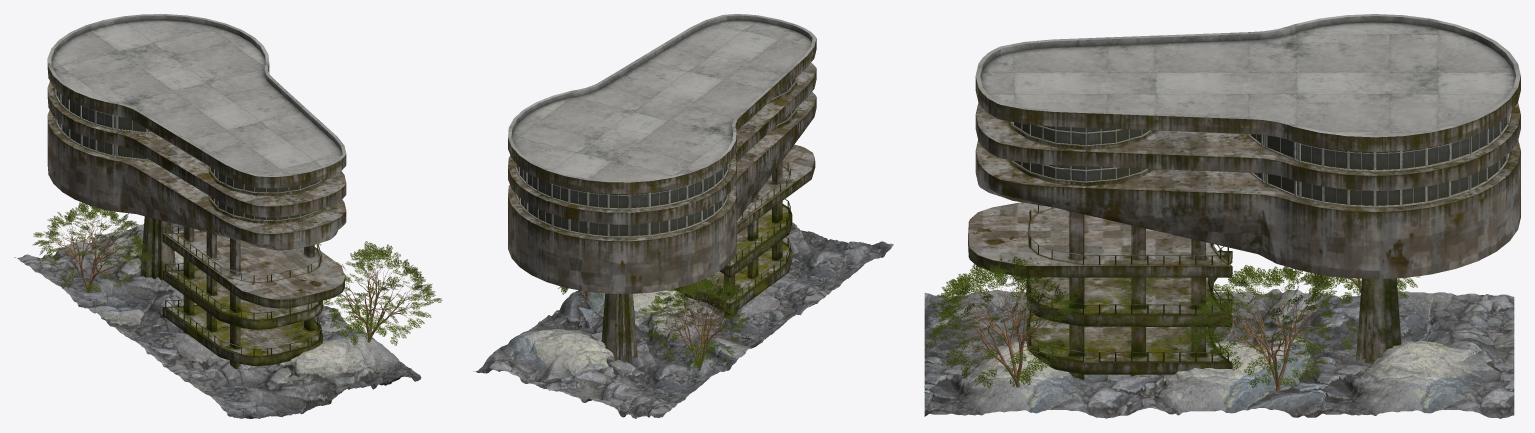
The picture shows the model from 3 angles, left to right: view 1: azimuth 30°, elevation 25°; view 2: azimuth 150°, elevation 25°; view 3: azimuth 270°, elevation 25°; orthographic projection. The views are drawn at different scales.
Parts seen in each view (by area): view 1: Cylinder, Plane, leaves.002, leaves; view 2: Cylinder, Plane, leaves; view 3: Cylinder, Plane, leaves.001, leaves.002, leaves.
Part boxes in pixels (x1=…): Cylinder: x1=47, y1=14, x2=346, y2=368; Plane: x1=14, y1=223, x2=421, y2=418; leaves.002: x1=322, y1=241, x2=442, y2=345; leaves: x1=33, y1=202, x2=153, y2=292; Cylinder: x1=508, y1=14, x2=816, y2=363; Plane: x1=473, y1=222, x2=893, y2=418; leaves: x1=635, y1=277, x2=748, y2=370; Cylinder: x1=968, y1=14, x2=1520, y2=379; Plane: x1=924, y1=289, x2=1514, y2=418; leaves.001: x1=1183, y1=265, x2=1359, y2=391; leaves.002: x1=925, y1=256, x2=1076, y2=388; leaves: x1=1297, y1=269, x2=1421, y2=301.
Bounding box in the file's own units: 15.95 × 13.52 × 25.03.
4 materials, 4 textured.
